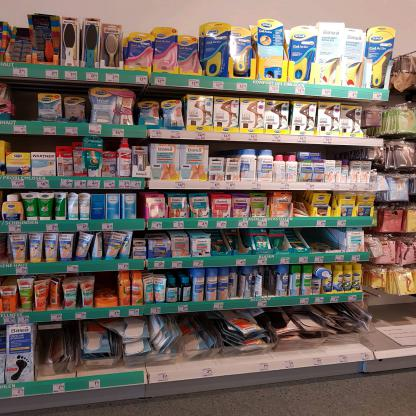Void: (381, 299, 415, 342), (11, 84, 35, 117), (139, 85, 180, 103), (323, 144, 372, 159), (14, 136, 55, 152), (305, 228, 331, 250), (41, 326, 69, 345), (209, 141, 232, 155), (98, 274, 112, 290)
